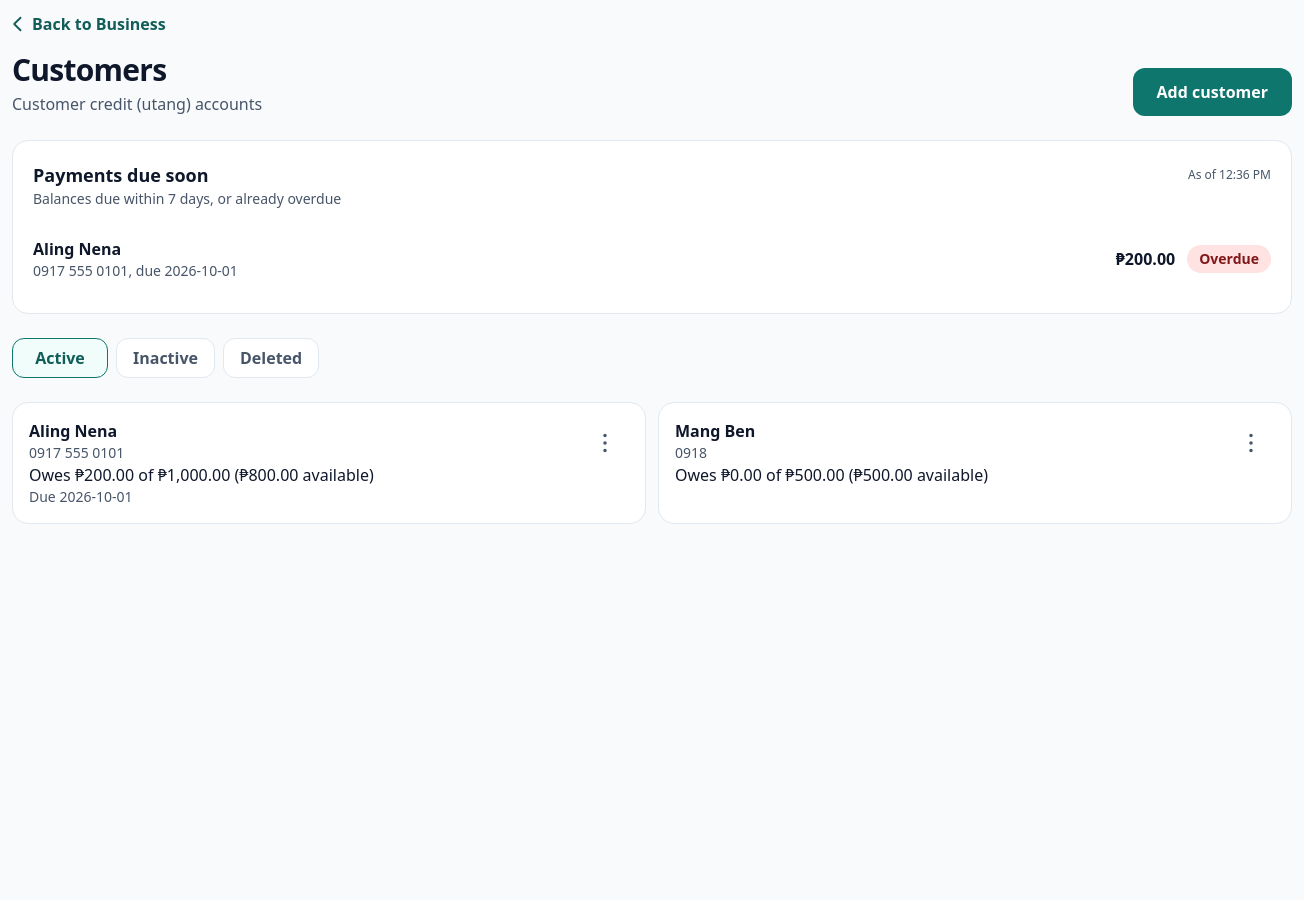
Test: CustomersPage list › only offers payment when something is owed, and erasing only at a zero balance
Click the button named "Actions for Aling Nena" at point(605, 443), box top-left (581, 419), bottom-right (629, 467)
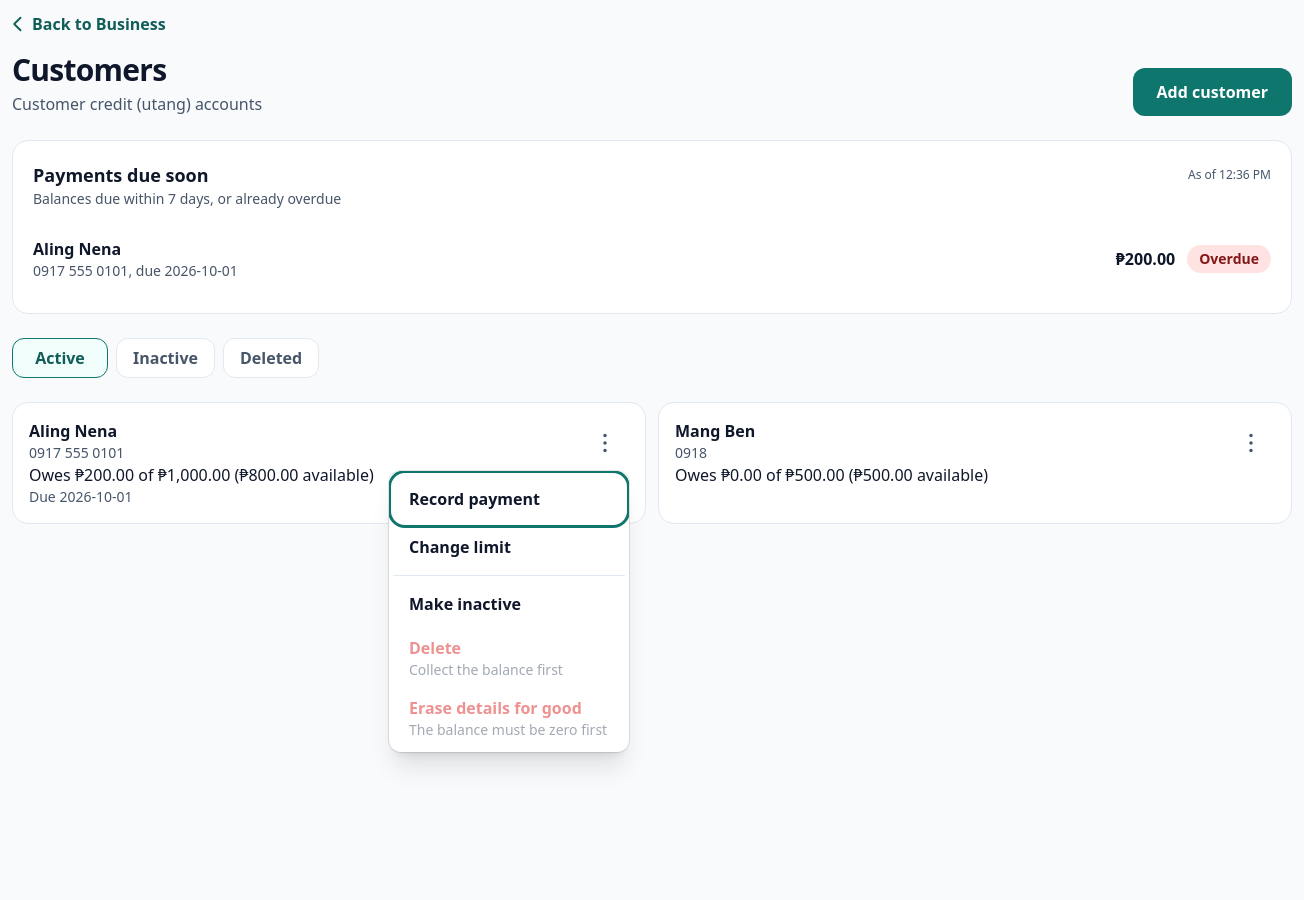
Expected: the menu item "Record payment" is enabled, top-left (393, 475), bottom-right (625, 523)
Expected: the menu item "Erase details for good The balance must be zero first" is disabled, top-left (393, 688), bottom-right (625, 748)
Expected: the menu item "Delete Collect the balance first" is disabled, top-left (393, 628), bottom-right (625, 688)
Press Escape
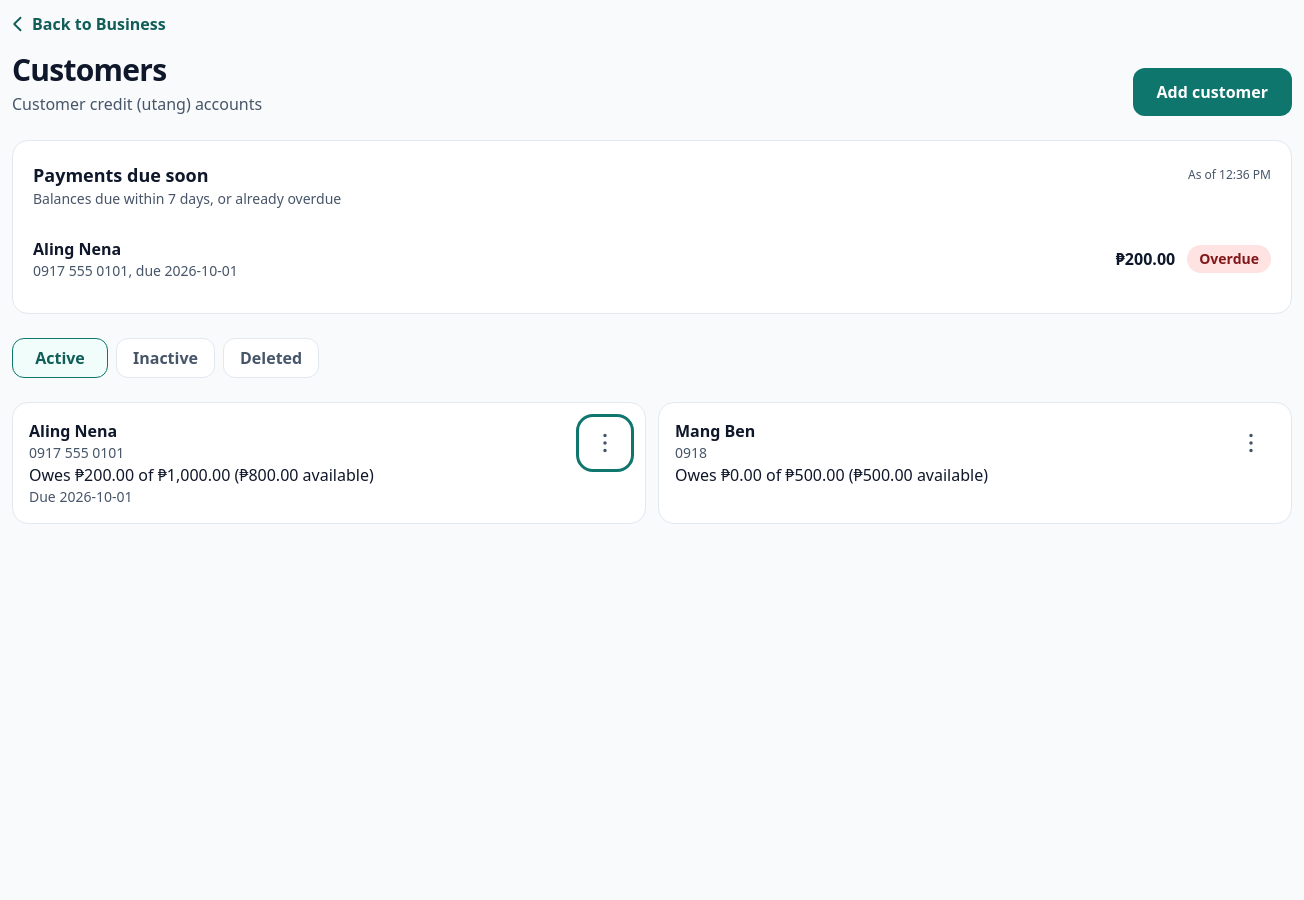
Click the button named "Actions for Mang Ben" at point(1251, 443), box top-left (1227, 419), bottom-right (1275, 467)
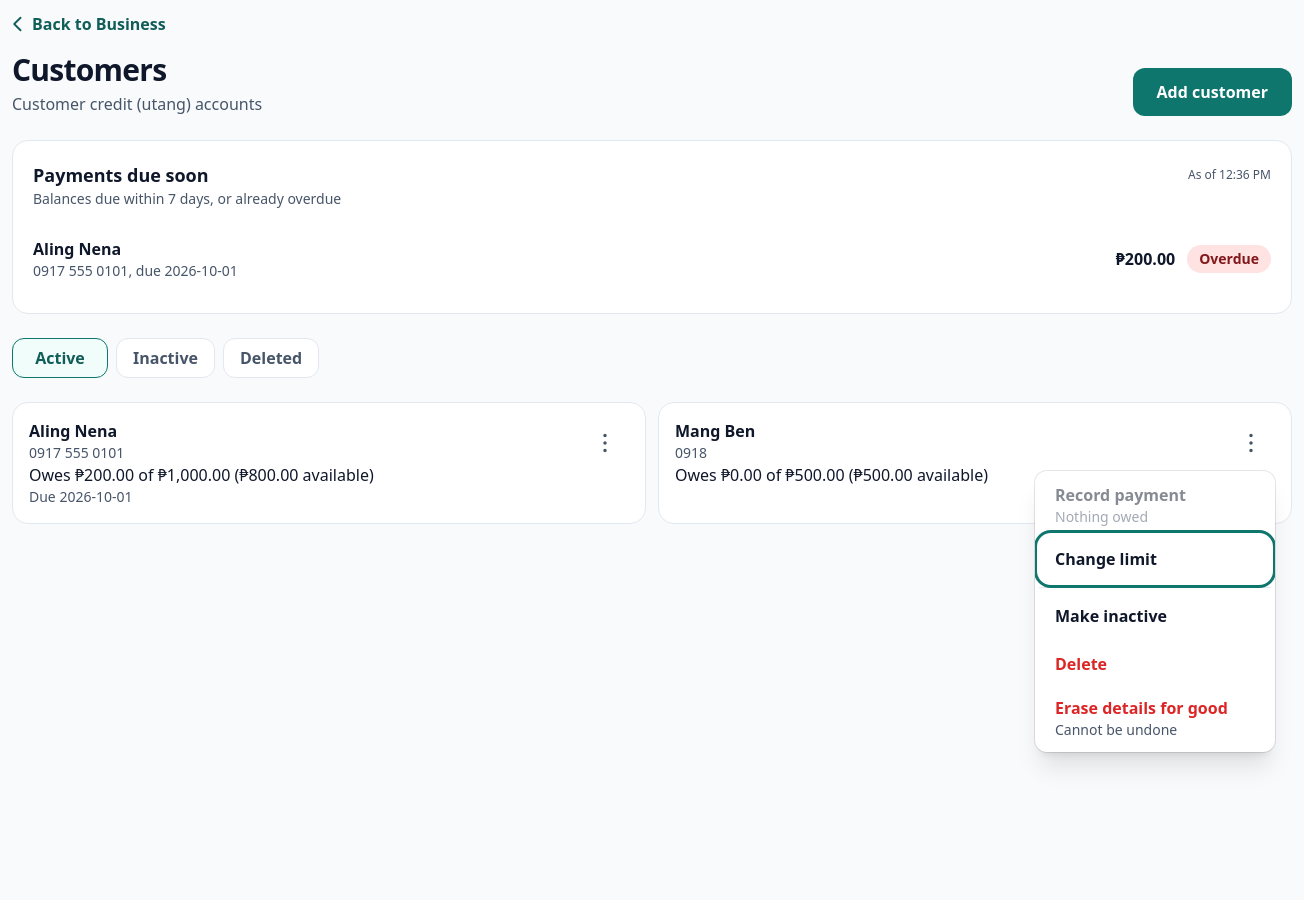
Expected: the menu item "Record payment Nothing owed" is disabled, top-left (1039, 475), bottom-right (1271, 535)
Expected: the menu item "Erase details for good Cannot be undone" is enabled, top-left (1039, 688), bottom-right (1271, 748)
Expected: the menu item "Delete" is enabled, top-left (1039, 640), bottom-right (1271, 688)
